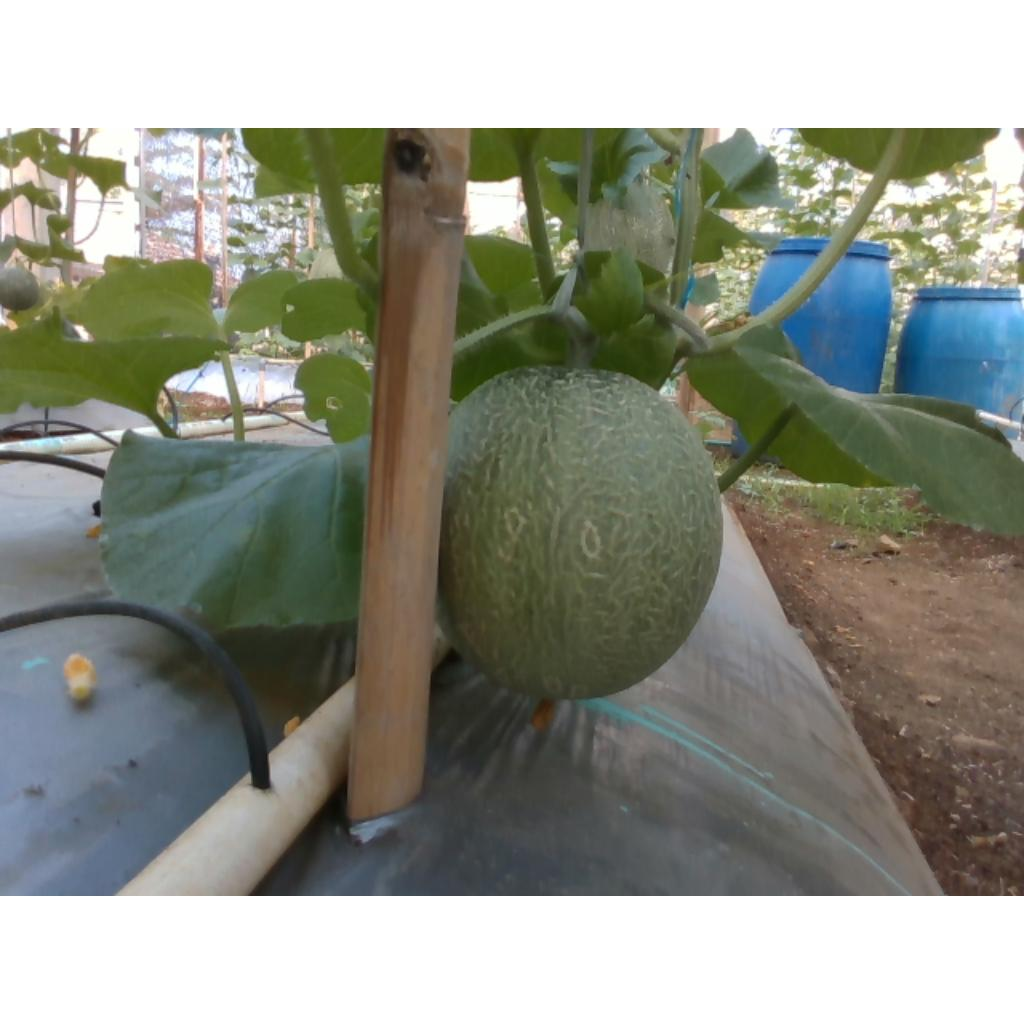melon: (442, 368, 723, 698)
